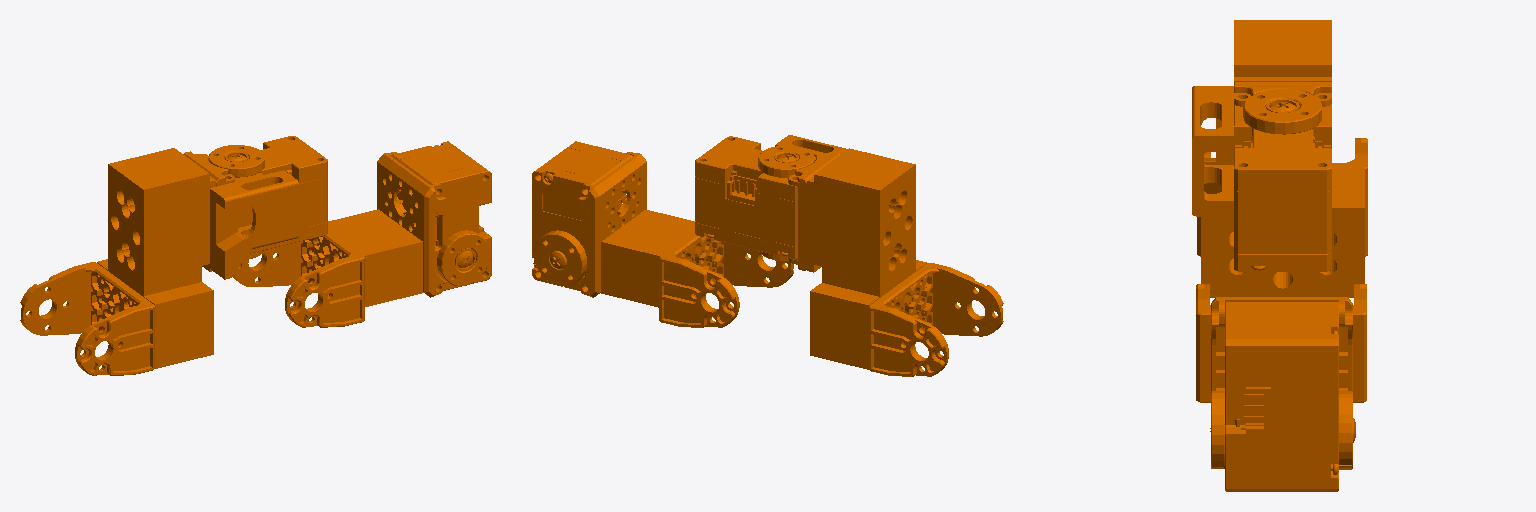
The robot description file, URDF, robot "onshape":
<robot name="onshape">
  <link name="palm_lower">
    <inertial>
      <origin xyz="0.0 0.0 0.0" rpy="0.0 -0.0 0.0"/>
      <mass value="0.237"/>
      <inertia ixx="0.000354094" ixy="-1.193e-06" ixz="-2.445e-06" iyy="0.000260915" iyz="-2.905e-06" izz="0.000529257"/>
    </inertial>
    <visual>
      <geometry>
        <mesh filename="../assets/leap/leap_hand/palm_lower.stl"/>
      </geometry>
      <origin xyz="-0.020095249652862544 0.025757756134899473 -0.034722403578460216" rpy="0.0 -0.0 0.0"/>
      <material name="palm_lower_material">
        <color rgba="0.6039215686274509 0.14901960784313725 0.14901960784313725 1.0"/>
      </material>
    </visual>
    <collision>
      <geometry>
        <mesh filename="../assets/leap/leap_hand/palm_lower.stl"/>
      </geometry>
      <origin xyz="-0.020095249652862544 0.025757756134899473 -0.034722403578460216" rpy="0.0 -0.0 0.0"/>
    </collision>
  </link>
  <link name="mcp_joint">
    <inertial>
      <origin xyz="0.0 0.0 0.0" rpy="0.0 -0.0 0.0"/>
      <mass value="0.044"/>
      <inertia ixx="1.1499e-05" ixy="3.049e-06" ixz="1.21e-07" iyy="7.796e-06" iyz="1.12e-07" izz="1.4759e-05"/>
    </inertial>
    <visual>
      <geometry>
        <mesh filename="../assets/leap/leap_hand/mcp_joint.stl"/>
      </geometry>
      <origin xyz="0.008406902261174496 0.0077662438597169954 0.014657354985032912" rpy="1.6375789613221e-15 -1.021047330249102e-30 1.7177968783327987e-31"/>
      <material name="mcp_joint_material">
        <color rgba="0.8666666666666667 0.8666666666666667 0.050980392156862744 1.0"/>
      </material>
    </visual>
    <collision>
      <geometry>
        <mesh filename="../assets/leap/leap_hand/mcp_joint.stl"/>
      </geometry>
      <origin xyz="0.008406902261174496 0.0077662438597169954 0.014657354985032912" rpy="1.6375789613221e-15 -1.021047330249102e-30 1.7177968783327987e-31"/>
    </collision>
  </link>
  <link name="pip">
    <inertial>
      <origin xyz="0.0 0.0 0.0" rpy="0.0 -0.0 0.0"/>
      <mass value="0.032"/>
      <inertia ixx="4.798e-06" ixy="1.2e-08" ixz="4e-09" iyy="2.862e-06" iyz="1.1e-08" izz="4.234e-06"/>
    </inertial>
    <visual>
      <geometry>
        <mesh filename="../assets/leap/leap_hand/pip.stl"/>
      </geometry>
      <origin xyz="0.009643363092271328 0.0002999999999999895 0.0007840340104173765" rpy="-1.5707963267948966 -1.5707963267948963 0.0"/>
      <material name="pip_material">
        <color rgba="0.7490196078431373 0.7490196078431373 0.7490196078431373 1.0"/>
      </material>
    </visual>
    <collision>
      <geometry>
        <mesh filename="../assets/leap/leap_hand/pip.stl"/>
      </geometry>
      <origin xyz="0.009643363092271328 0.0002999999999999895 0.0007840340104173765" rpy="-1.5707963267948966 -1.5707963267948963 0.0"/>
    </collision>
  </link>
  <link name="dip">
    <inertial>
      <origin xyz="0.0 0.0 0.0" rpy="0.0 -0.0 0.0"/>
      <mass value="0.037"/>
      <inertia ixx="5.542e-06" ixy="-6.07e-07" ixz="-1.7e-08" iyy="5.727e-06" iyz="-2.3e-08" izz="6.682e-06"/>
    </inertial>
    <visual>
      <geometry>
        <mesh filename="../assets/leap/leap_hand/dip.stl"/>
      </geometry>
      <origin xyz="0.021133352895225003 -0.00843211914670488 0.00978508816209524" rpy="-3.141592653589793 4.507511124216441e-32 4.439548105392361e-32"/>
      <material name="dip_material">
        <color rgba="0.8666666666666667 0.8666666666666667 0.050980392156862744 1.0"/>
      </material>
    </visual>
    <collision>
      <geometry>
        <mesh filename="../assets/leap/leap_hand/dip.stl"/>
      </geometry>
      <origin xyz="0.021133352895225003 -0.00843211914670488 0.00978508816209524" rpy="-3.141592653589793 4.507511124216441e-32 4.439548105392361e-32"/>
    </collision>
  </link>
  <link name="fingertip">
    <inertial>
      <origin xyz="0.0 0.0 0.0" rpy="0.0 -0.0 0.0"/>
      <mass value="0.016"/>
      <inertia ixx="3.368e-06" ixy="1.15e-07" ixz="0.0" iyy="1.556e-06" iyz="0.0" izz="2.863e-06"/>
    </inertial>
    <visual>
      <geometry>
        <mesh filename="../assets/leap/leap_hand/fingertip.stl"/>
      </geometry>
      <origin xyz="0.013286424108533503 -0.006114238386541987 0.014499999999999498" rpy="3.141592653589793 1.1993117970061735e-33 4.439548105392361e-32"/>
      <material name="fingertip_material">
        <color rgba="0.8666666666666667 0.8666666666666667 0.050980392156862744 1.0"/>
      </material>
    </visual>
    <collision>
      <geometry>
        <mesh filename="../assets/leap/leap_hand/fingertip.stl"/>
      </geometry>
      <origin xyz="0.013286424108533503 -0.006114238386541987 0.014499999999999498" rpy="3.141592653589793 1.1993117970061735e-33 4.439548105392361e-32"/>
    </collision>
  </link>
  <link name="pip_4">
    <inertial>
      <origin xyz="0.0 0.0 0.0" rpy="0.0 -0.0 0.0"/>
      <mass value="0.032"/>
      <inertia ixx="4.798e-06" ixy="1.2e-08" ixz="4e-09" iyy="2.862e-06" iyz="1.1e-08" izz="4.234e-06"/>
    </inertial>
    <visual>
      <geometry>
        <mesh filename="../assets/leap/leap_hand/pip.stl"/>
      </geometry>
      <origin xyz="-0.005356636907728671 0.0002999999999999999 0.0007840340104173782" rpy="-1.5707963267948966 -1.5707963267948963 0.0"/>
      <material name="pip_material">
        <color rgba="0.7490196078431373 0.7490196078431373 0.7490196078431373 1.0"/>
      </material>
    </visual>
    <collision>
      <geometry>
        <mesh filename="../assets/leap/leap_hand/pip.stl"/>
      </geometry>
      <origin xyz="-0.005356636907728671 0.0002999999999999999 0.0007840340104173782" rpy="-1.5707963267948966 -1.5707963267948963 0.0"/>
    </collision>
  </link>
  <link name="thumb_pip">
    <inertial>
      <origin xyz="0.0 0.0 0.0" rpy="0.0 -0.0 0.0"/>
      <mass value="0.003"/>
      <inertia ixx="5.93e-07" ixy="0.0" ixz="0.0" iyy="5.49e-07" iyz="0.0" izz="2.24e-07"/>
    </inertial>
    <visual>
      <geometry>
        <mesh filename="../assets/leap/leap_hand/thumb_pip.stl"/>
      </geometry>
      <origin xyz="0.011961920770611187 -5.30825383648903e-16 -0.0158526489566642" rpy="1.5707963267948966 1.6050198443300153e-46 -3.9204996250525193e-59"/>
      <material name="thumb_pip_material">
        <color rgba="0.8666666666666667 0.8666666666666667 0.050980392156862744 1.0"/>
      </material>
    </visual>
    <collision>
      <geometry>
        <mesh filename="../assets/leap/leap_hand/thumb_pip.stl"/>
      </geometry>
      <origin xyz="0.011961920770611187 -5.30825383648903e-16 -0.0158526489566642" rpy="1.5707963267948966 1.6050198443300153e-46 -3.9204996250525193e-59"/>
    </collision>
  </link>
  <link name="thumb_dip">
    <inertial>
      <origin xyz="0.0 0.0 0.0" rpy="0.0 -0.0 0.0"/>
      <mass value="0.038"/>
      <inertia ixx="8.474e-06" ixy="2.41e-07" ixz="2.6e-08" iyy="3.841e-06" iyz="2.5e-08" izz="7.679e-06"/>
    </inertial>
    <visual>
      <geometry>
        <mesh filename="../assets/leap/leap_hand/thumb_dip.stl"/>
      </geometry>
      <origin xyz="0.043968715707239175 0.0579529529737092 -0.008628676449369476" rpy="1.94289029309401e-16 3.27515792264422e-15 1.112375852965736e-46"/>
      <material name="thumb_dip_material">
        <color rgba="0.8666666666666667 0.8666666666666667 0.050980392156862744 1.0"/>
      </material>
    </visual>
    <collision>
      <geometry>
        <mesh filename="../assets/leap/leap_hand/thumb_dip.stl"/>
      </geometry>
      <origin xyz="0.043968715707239175 0.0579529529737092 -0.008628676449369476" rpy="1.94289029309401e-16 3.27515792264422e-15 1.112375852965736e-46"/>
    </collision>
  </link>
  <link name="thumb_fingertip">
    <inertial>
      <origin xyz="0.0 0.0 0.0" rpy="0.0 -0.0 0.0"/>
      <mass value="0.049"/>
      <inertia ixx="2.0372e-05" ixy="-4.89e-07" ixz="-3e-08" iyy="4.336e-06" iyz="-9.7e-08" izz="1.9845e-05"/>
    </inertial>
    <visual>
      <geometry>
        <mesh filename="../assets/leap/leap_hand/thumb_fingertip.stl"/>
      </geometry>
      <origin xyz="0.06255953846266739 0.07845968291139699 0.048992911807332215" rpy="4.379057701015637e-47 -3.33066907387547e-16 1.2042408677791935e-46"/>
      <material name="thumb_fingertip_material">
        <color rgba="0.6039215686274509 0.14901960784313725 0.14901960784313725 1.0"/>
      </material>
    </visual>
    <collision>
      <geometry>
        <mesh filename="../assets/leap/leap_hand/thumb_fingertip.stl"/>
      </geometry>
      <origin xyz="0.06255953846266739 0.07845968291139699 0.048992911807332215" rpy="4.379057701015637e-47 -3.33066907387547e-16 1.2042408677791935e-46"/>
    </collision>
  </link>
  <link name="mcp_joint_2_long">
    <inertial>
      <origin xyz="0.0 0.0 0.0" rpy="0.0 -0.0 0.0"/>
      <mass value="0.044"/>
      <inertia ixx="1.1499e-05" ixy="3.049e-06" ixz="1.21e-07" iyy="7.796e-06" iyz="1.12e-07" izz="1.4759e-05"/>
    </inertial>
    <visual>
      <geometry>
        <mesh filename="custom_models/mcp_joint_long.stl"/>
      </geometry>
      <origin xyz="0.008406902261174496 0.0077662438597169954 0.014657354985032914" rpy="1.6375789613221e-15 -1.0076465469034e-30 2.1209300131419907e-61"/>
      <material name="mcp_joint_material">
        <color rgba="0.878 0.467 0.0 1.0"/>
      </material>
    </visual>
    <collision>
      <geometry>
        <mesh filename="custom_models/mcp_joint_long.stl"/>
      </geometry>
      <origin xyz="0.008406902261174496 0.0077662438597169954 0.014657354985032914" rpy="1.6375789613221e-15 -1.0076465469034e-30 2.1209300131419907e-61"/>
    </collision>
  </link>
  <link name="pip_2">
    <inertial>
      <origin xyz="0.0 0.0 0.0" rpy="0.0 -0.0 0.0"/>
      <mass value="0.032"/>
      <inertia ixx="4.798e-06" ixy="1.2e-08" ixz="4e-09" iyy="2.862e-06" iyz="1.1e-08" izz="4.234e-06"/>
    </inertial>
    <visual>
      <geometry>
        <mesh filename="../assets/leap/leap_hand/pip.stl"/>
      </geometry>
      <origin xyz="0.009643363092271328 0.0002999999999999947 0.0007840340104173765" rpy="-1.5707963267948966 -1.5707963267948963 0.0"/>
      <material name="pip_material">
        <color rgba="0.7490196078431373 0.7490196078431373 0.7490196078431373 1.0"/>
      </material>
    </visual>
    <collision>
      <geometry>
        <mesh filename="../assets/leap/leap_hand/pip.stl"/>
      </geometry>
      <origin xyz="0.009643363092271328 0.0002999999999999947 0.0007840340104173765" rpy="-1.5707963267948966 -1.5707963267948963 0.0"/>
    </collision>
  </link>
  <link name="dip_2_long">
    <inertial>
      <origin xyz="0.0 0.0 0.0" rpy="0.0 -0.0 0.0"/>
      <mass value="0.037"/>
      <inertia ixx="5.542e-06" ixy="-6.07e-07" ixz="-1.7e-08" iyy="5.727e-06" iyz="-2.3e-08" izz="6.682e-06"/>
    </inertial>
    <visual>
      <geometry>
        <mesh filename="custom_models/dip_long.stl"/>
      </geometry>
      <origin xyz="0.021133352895225003 -0.008432119146704865 0.009785088162095237" rpy="-3.141592653589793 2.1146933785271956e-32 1.4408183216511869e-31"/>
      <material name="dip_material">
        <color rgba="0.878 0.467 0.0 1.0"/>
      </material>
    </visual>
    <collision>
      <geometry>
        <mesh filename="custom_models/dip_long.stl"/>
      </geometry>
      <origin xyz="0.021133352895225003 -0.008432119146704865 0.009785088162095237" rpy="-3.141592653589793 2.1146933785271956e-32 1.4408183216511869e-31"/>
    </collision>
  </link>
  <link name="fingertip_2">
    <inertial>
      <origin xyz="0.0 0.0 0.0" rpy="0.0 -0.0 0.0"/>
      <mass value="0.016"/>
      <inertia ixx="3.368e-06" ixy="1.15e-07" ixz="0.0" iyy="1.556e-06" iyz="0.0" izz="2.863e-06"/>
    </inertial>
    <visual>
      <geometry>
        <mesh filename="../assets/leap/leap_hand/fingertip.stl"/>
      </geometry>
      <origin xyz="0.013286424108533496 -0.006114238386542001 0.014499999999999496" rpy="3.141592653589793 -4.317959788283594e-33 1.4408183216511869e-31"/>
      <material name="fingertip_material">
        <color rgba="0.8666666666666667 0.8666666666666667 0.050980392156862744 1.0"/>
      </material>
    </visual>
    <collision>
      <geometry>
        <mesh filename="../assets/leap/leap_hand/fingertip.stl"/>
      </geometry>
      <origin xyz="0.013286424108533496 -0.006114238386542001 0.014499999999999496" rpy="3.141592653589793 -4.317959788283594e-33 1.4408183216511869e-31"/>
    </collision>
  </link>
  <link name="mcp_joint_3">
    <inertial>
      <origin xyz="0.0 0.0 0.0" rpy="0.0 -0.0 0.0"/>
      <mass value="0.044"/>
      <inertia ixx="1.1499e-05" ixy="3.049e-06" ixz="1.21e-07" iyy="7.796e-06" iyz="1.12e-07" izz="1.4759e-05"/>
    </inertial>
    <visual>
      <geometry>
        <mesh filename="../assets/leap/leap_hand/mcp_joint.stl"/>
      </geometry>
      <origin xyz="0.0084069022611745 0.007766243859716996 0.014657354985032914" rpy="1.6375789613221e-15 -1.0059504988632627e-30 5.729641584552035e-32"/>
      <material name="mcp_joint_material">
        <color rgba="0.8666666666666667 0.8666666666666667 0.050980392156862744 1.0"/>
      </material>
    </visual>
    <collision>
      <geometry>
        <mesh filename="../assets/leap/leap_hand/mcp_joint.stl"/>
      </geometry>
      <origin xyz="0.0084069022611745 0.007766243859716996 0.014657354985032914" rpy="1.6375789613221e-15 -1.0059504988632627e-30 5.729641584552035e-32"/>
    </collision>
  </link>
  <link name="pip_3">
    <inertial>
      <origin xyz="0.0 0.0 0.0" rpy="0.0 -0.0 0.0"/>
      <mass value="0.032"/>
      <inertia ixx="4.798e-06" ixy="1.2e-08" ixz="4e-09" iyy="2.862e-06" iyz="1.1e-08" izz="4.234e-06"/>
    </inertial>
    <visual>
      <geometry>
        <mesh filename="../assets/leap/leap_hand/pip.stl"/>
      </geometry>
      <origin xyz="0.009643363092271331 0.00029999999999998084 0.0007840340104173765" rpy="-1.5707963267948966 -1.5707963267948963 0.0"/>
      <material name="pip_material">
        <color rgba="0.7490196078431373 0.7490196078431373 0.7490196078431373 1.0"/>
      </material>
    </visual>
    <collision>
      <geometry>
        <mesh filename="../assets/leap/leap_hand/pip.stl"/>
      </geometry>
      <origin xyz="0.009643363092271331 0.00029999999999998084 0.0007840340104173765" rpy="-1.5707963267948966 -1.5707963267948963 0.0"/>
    </collision>
  </link>
  <link name="dip_3">
    <inertial>
      <origin xyz="0.0 0.0 0.0" rpy="0.0 -0.0 0.0"/>
      <mass value="0.037"/>
      <inertia ixx="5.542e-06" ixy="-6.07e-07" ixz="-1.7e-08" iyy="5.727e-06" iyz="-2.3e-08" izz="6.682e-06"/>
    </inertial>
    <visual>
      <geometry>
        <mesh filename="../assets/leap/leap_hand/dip.stl"/>
      </geometry>
      <origin xyz="0.021133352895225006 -0.008432119146704865 0.009785088162095237" rpy="-3.141592653589793 -1.4095651113919093e-33 1.5565411607615035e-32"/>
      <material name="dip_material">
        <color rgba="0.8666666666666667 0.8666666666666667 0.050980392156862744 1.0"/>
      </material>
    </visual>
    <collision>
      <geometry>
        <mesh filename="../assets/leap/leap_hand/dip.stl"/>
      </geometry>
      <origin xyz="0.021133352895225006 -0.008432119146704865 0.009785088162095237" rpy="-3.141592653589793 -1.4095651113919093e-33 1.5565411607615035e-32"/>
    </collision>
  </link>
  <link name="fingertip_3">
    <inertial>
      <origin xyz="0.0 0.0 0.0" rpy="0.0 -0.0 0.0"/>
      <mass value="0.016"/>
      <inertia ixx="3.368e-06" ixy="1.15e-07" ixz="0.0" iyy="1.556e-06" iyz="0.0" izz="2.863e-06"/>
    </inertial>
    <visual>
      <geometry>
        <mesh filename="../assets/leap/leap_hand/fingertip.stl"/>
      </geometry>
      <origin xyz="0.013286424108533501 -0.006114238386541987 0.0144999999999995" rpy="3.141592653589793 8.61707169505754e-33 1.5565411607615035e-32"/>
      <material name="fingertip_material">
        <color rgba="0.8666666666666667 0.8666666666666667 0.050980392156862744 1.0"/>
      </material>
    </visual>
    <collision>
      <geometry>
        <mesh filename="../assets/leap/leap_hand/fingertip.stl"/>
      </geometry>
      <origin xyz="0.013286424108533501 -0.006114238386541987 0.0144999999999995" rpy="3.141592653589793 8.61707169505754e-33 1.5565411607615035e-32"/>
    </collision>
  </link>
  <joint name="1" type="revolute">
    <parent link="palm_lower"/>
    <child link="mcp_joint"/>
    <origin xyz="-0.007095249652862546 0.023057756134899472 -0.01872240357846022" rpy="1.570796326794895 1.5707963267948946 0.0"/>
    <axis xyz="0.0 0.0 -1.0"/>
    <limit effort="0.95" velocity="8.48" lower="-0.314" upper="2.23"/>
  </joint>
  <joint name="0" type="revolute">
    <parent link="mcp_joint"/>
    <child link="pip"/>
    <origin xyz="-0.012200000000000008 0.038099999999999995 0.0145" rpy="-1.5707963267948966 -1.0065212660796337e-15 1.5707963267948943"/>
    <axis xyz="0.0 0.0 -1.0"/>
    <limit effort="0.95" velocity="8.48" lower="-1.047" upper="1.047"/>
  </joint>
  <joint name="2" type="revolute">
    <parent link="pip"/>
    <child link="dip"/>
    <origin xyz="0.014999999999999968 0.014299999999999905 -0.012999999999999824" rpy="1.570796326794896 -1.5707963267948963 0.0"/>
    <axis xyz="0.0 0.0 -1.0"/>
    <limit effort="0.95" velocity="8.48" lower="-0.506" upper="1.885"/>
  </joint>
  <joint name="3" type="revolute">
    <parent link="dip"/>
    <child link="fingertip"/>
    <origin xyz="-4.088058249557269e-09 -0.03610000421036737 0.0002000000000000786" rpy="4.5935029425113685e-17 -2.8730071914463795e-16 4.439548105392361e-32"/>
    <axis xyz="0.0 0.0 -1.0"/>
    <limit effort="0.95" velocity="8.48" lower="-0.366" upper="2.042"/>
  </joint>
  <joint name="12" type="revolute">
    <parent link="palm_lower"/>
    <child link="pip_4"/>
    <origin xyz="-0.06939524965286253 -0.0012422438651005258 -0.021622403578460216" rpy="-8.238176646493942e-17 1.5707963267948957 0.0"/>
    <axis xyz="0.0 0.0 -1.0"/>
    <limit effort="0.95" velocity="8.48" lower="-0.349" upper="2.094"/>
  </joint>
  <joint name="13" type="revolute">
    <parent link="pip_4"/>
    <child link="thumb_pip"/>
    <origin xyz="-2.7755575615628914e-17 0.014300000000000005 -0.013000000000000012" rpy="1.570796326794896 -1.5707963267948963 0.0"/>
    <axis xyz="0.0 0.0 -1.0"/>
    <limit effort="0.95" velocity="8.48" lower="-0.47" upper="2.443"/>
  </joint>
  <joint name="14" type="revolute">
    <parent link="thumb_pip"/>
    <child link="thumb_dip"/>
    <origin xyz="0.0 0.014499999999999966 -0.017000000000000053" rpy="-1.5707963267948966 1.6050198443300131e-46 -1.9721522630516625e-31"/>
    <axis xyz="0.0 0.0 -1.0"/>
    <limit effort="0.95" velocity="8.48" lower="-1.2" upper="1.9"/>
  </joint>
  <joint name="15" type="revolute">
    <parent link="thumb_dip"/>
    <child link="thumb_fingertip"/>
    <origin xyz="-1.249000902703301e-16 0.046599999999999864 0.0001999999999999771" rpy="1.506395849149178e-44 5.423418723393526e-31 3.141592653589793"/>
    <axis xyz="0.0 0.0 -1.0"/>
    <limit effort="0.95" velocity="8.48" lower="-1.34" upper="1.88"/>
  </joint>
  <joint name="5" type="revolute">
    <parent link="palm_lower"/>
    <child link="mcp_joint_2_long"/>
    <origin xyz="-0.007095249652862546 -0.022392243865100525 -0.01872240357846022" rpy="1.570796326794895 1.5707963267948946 0.0"/>
    <axis xyz="0.0 0.0 -1.0"/>
    <limit effort="0.95" velocity="8.48" lower="-0.314" upper="2.23"/>
  </joint>
  <joint name="4" type="revolute">
    <parent link="mcp_joint_2_long"/>
    <child link="pip_2"/>
    <origin xyz="-0.012200000000000007713 0.053099999999999994982 0.014500000000000000736" rpy="-1.5707963267948966 -1.0065212660796337e-15 1.5707963267948943"/>
    <axis xyz="0.0 0.0 -1.0"/>
    <limit effort="0.95" velocity="8.48" lower="-1.047" upper="1.047"/>
  </joint>
  <joint name="6" type="revolute">
    <parent link="pip_2"/>
    <child link="dip_2_long"/>
    <origin xyz="0.014999999999999968 0.014299999999999905 -0.012999999999999824" rpy="1.570796326794896 -1.5707963267948963 0.0"/>
    <axis xyz="0.0 0.0 -1.0"/>
    <limit effort="0.95" velocity="8.48" lower="-0.506" upper="1.885"/>
  </joint>
  <joint name="7" type="revolute">
    <parent link="dip_2_long"/>
    <child link="fingertip_2"/>
    <origin xyz="-4.0880582495572692636e-09 -0.051100004210367367397 0.00020000000000007858714" rpy="4.5935029425113685e-17 -2.8730071914463795e-16 4.439548105392361e-32"/>
    <axis xyz="0.0 0.0 -1.0"/>
    <limit effort="0.95" velocity="8.48" lower="-0.366" upper="2.042"/>
  </joint>
  <joint name="9" type="revolute">
    <parent link="palm_lower"/>
    <child link="mcp_joint_3"/>
    <origin xyz="-0.007095249652862546 -0.06784224386510052 -0.01872240357846022" rpy="1.570796326794895 1.5707963267948946 0.0"/>
    <axis xyz="0.0 0.0 -1.0"/>
    <limit effort="0.95" velocity="8.48" lower="-0.314" upper="2.23"/>
  </joint>
  <joint name="8" type="revolute">
    <parent link="mcp_joint_3"/>
    <child link="pip_3"/>
    <origin xyz="-0.012200000000000008 0.038099999999999995 0.0145" rpy="-1.5707963267948966 -1.0065212660796337e-15 1.5707963267948943"/>
    <axis xyz="0.0 0.0 -1.0"/>
    <limit effort="0.95" velocity="8.48" lower="-1.047" upper="1.047"/>
  </joint>
  <joint name="10" type="revolute">
    <parent link="pip_3"/>
    <child link="dip_3"/>
    <origin xyz="0.014999999999999968 0.014299999999999905 -0.012999999999999824" rpy="1.570796326794896 -1.5707963267948963 0.0"/>
    <axis xyz="0.0 0.0 -1.0"/>
    <limit effort="0.95" velocity="8.48" lower="-0.506" upper="1.885"/>
  </joint>
  <joint name="11" type="revolute">
    <parent link="dip_3"/>
    <child link="fingertip_3"/>
    <origin xyz="-4.088058249557269e-09 -0.03610000421036737 0.0002000000000000786" rpy="4.5935029425113685e-17 -2.8730071914463795e-16 4.439548105392361e-32"/>
    <axis xyz="0.0 0.0 -1.0"/>
    <limit effort="0.95" velocity="8.48" lower="-0.366" upper="2.042"/>
  </joint>
</robot>

--- Facts derived from the render (not from the file) ---
The picture shows the robot from 3 angles, left to right: view 1: azimuth 30°, elevation 25°; view 2: azimuth 150°, elevation 25°; view 3: azimuth 270°, elevation 25°; orthographic projection.
Robot: onshape — 17 links, 16 joints (16 revolute); root link palm_lower; default pose: every joint at zero.
Visible links, largest first — view 1: mcp_joint_2_long, dip_2_long; view 2: mcp_joint_2_long, dip_2_long; view 3: mcp_joint_2_long, dip_2_long.
Link boxes in pixels (x1,y1,x2,y2): mcp_joint_2_long: (20,136,327,375); dip_2_long: (233,141,491,327); mcp_joint_2_long: (695,135,1003,376); dip_2_long: (532,141,793,327); mcp_joint_2_long: (1192,20,1367,297); dip_2_long: (1196,284,1366,491).
Bounding box of the posed robot: 0.1371 × 0.0358 × 0.0538 m (x, y, z).
Meshes: 10 distinct files referenced, 2 mesh visuals loaded (2 binary STL); not drawn: 15 (reference not matched to a file when rendering).